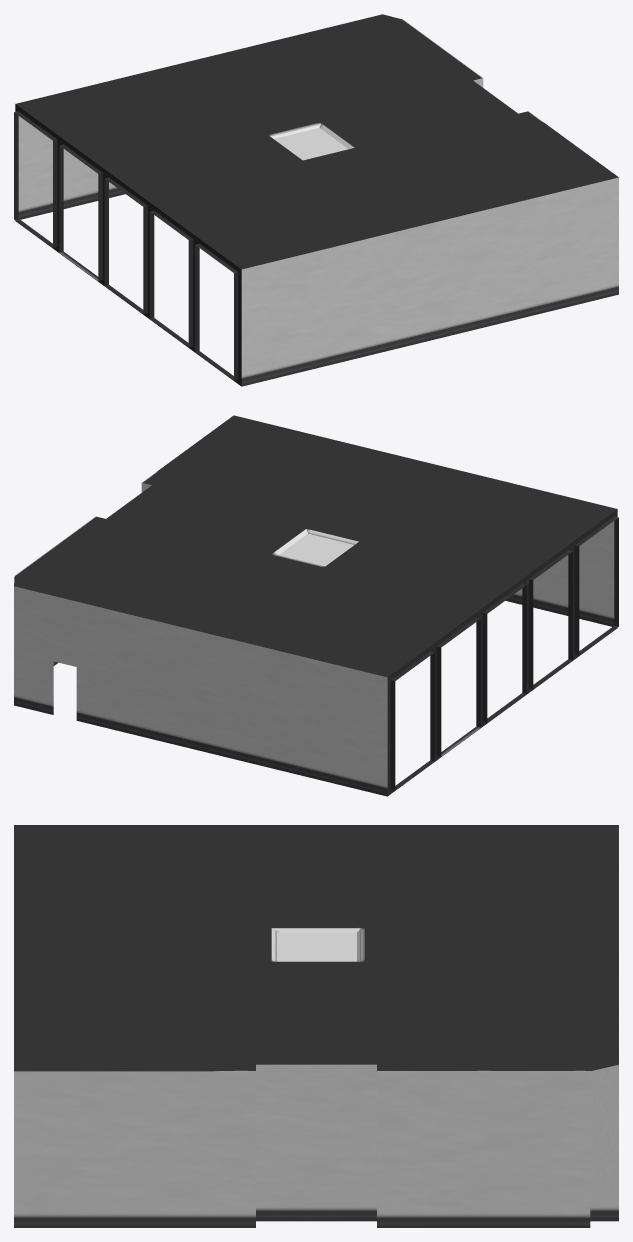
File: room2.obj
3 renders of one model, top to bottom at view 1: azimuth 30°, elevation 25°; view 2: azimuth 150°, elevation 25°; view 3: azimuth 270°, elevation 25°, orthographic. The views are drawn at different scales.
Visible parts, largest first — view 1: Cube.007; view 2: Cube.007; view 3: Cube.007.
Part boxes in pixels (x1=…): Cube.007: x1=14, y1=14, x2=618, y2=386; Cube.007: x1=14, y1=415, x2=618, y2=796; Cube.007: x1=14, y1=825, x2=618, y2=1227.
Size of the model in its own units: 13.64 by 4 by 14.
1 material, 1 textured.
